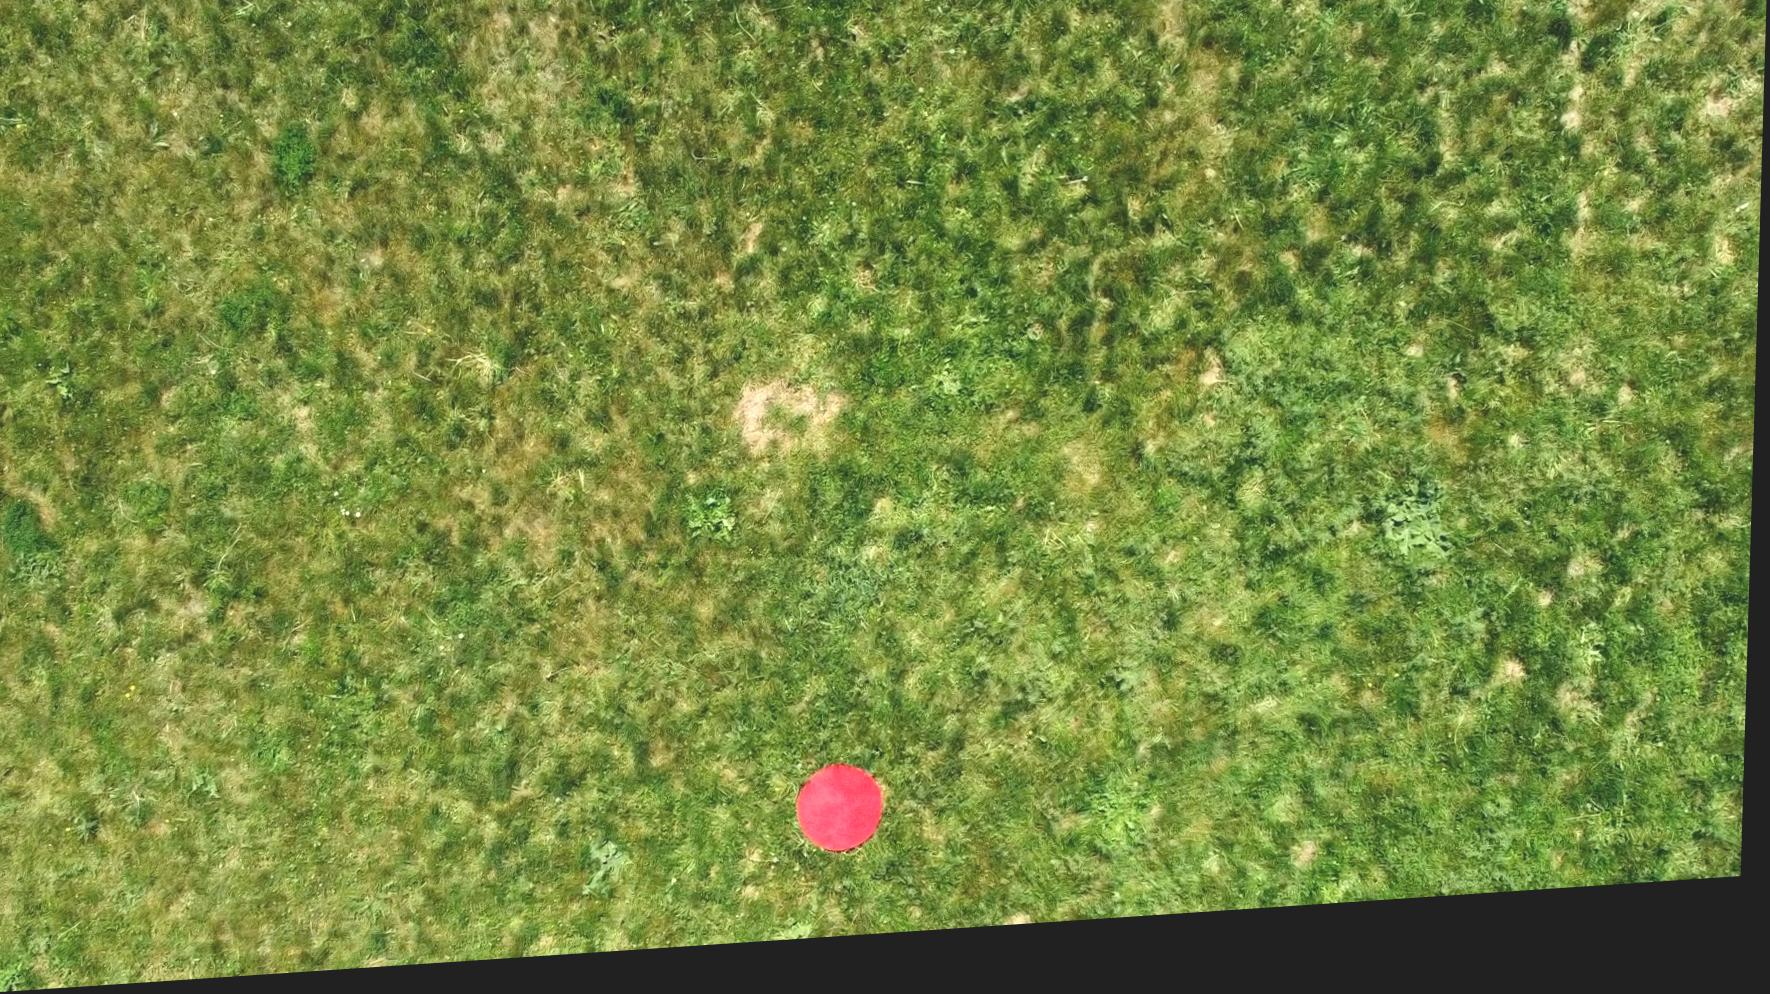Red: (800, 770, 895, 870)
